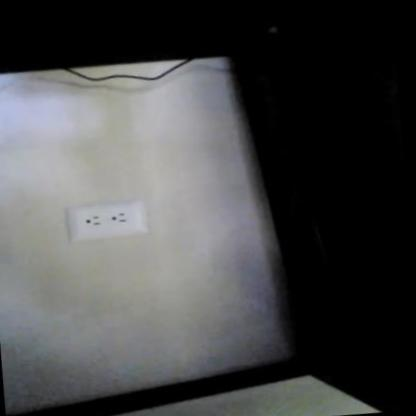OUTLET: (68, 195, 149, 240)
